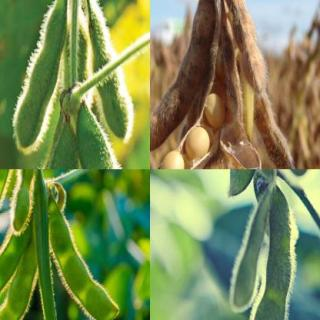soya: (150, 0, 215, 153), (47, 195, 120, 319), (11, 0, 67, 152), (90, 0, 136, 141), (248, 193, 292, 319), (76, 104, 149, 168), (230, 204, 268, 311), (222, 0, 266, 90), (255, 93, 298, 169), (0, 245, 36, 319), (0, 230, 32, 313), (28, 128, 78, 168), (12, 169, 36, 231), (225, 169, 257, 199), (0, 169, 13, 220), (191, 154, 231, 168)
